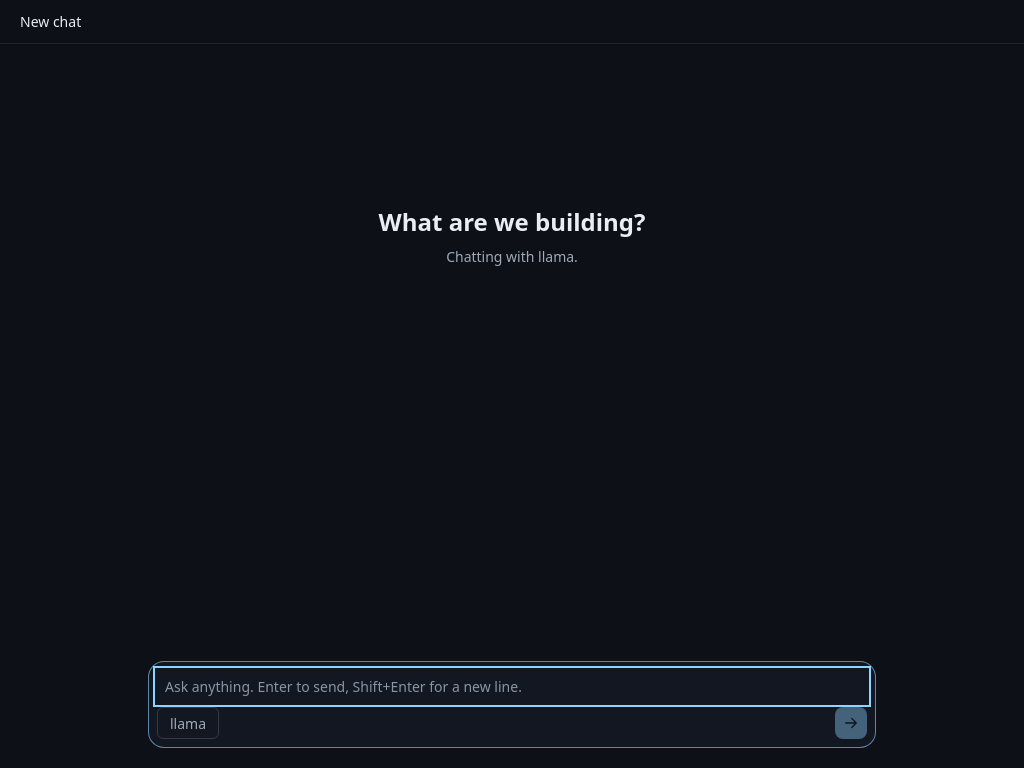
Chat › creates a session on first send, streams the reply and shows tokens and cost
This screenshot has width=1024, height=768.
Type "hi there" into the text box named "Message".
click(512, 686); type("hi there")  # box [157, 670, 867, 703]
Then press Enter
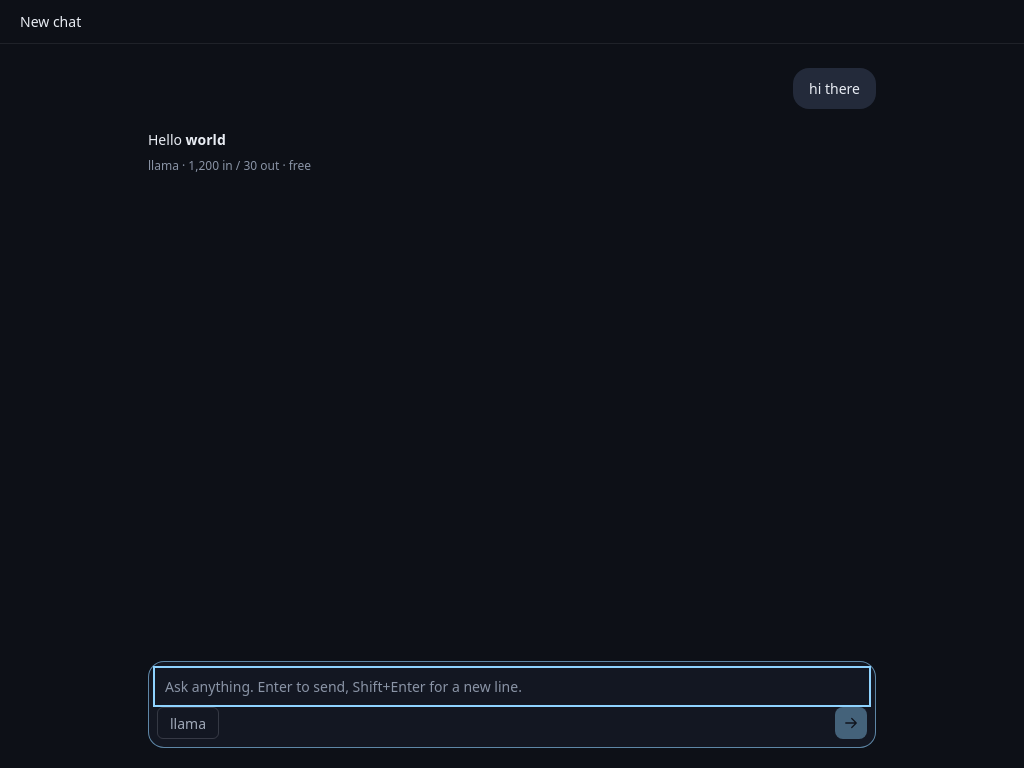
Check: the text "world" is shown, box [186, 130, 226, 149]
Check: the text "llama · 1,200 in / 30 out · free" is shown, box [148, 157, 311, 174]
